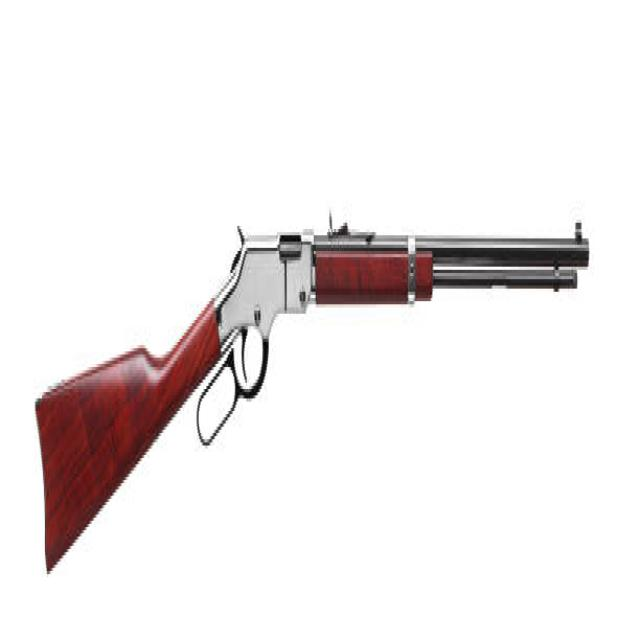rifle: (33, 208, 598, 591)
